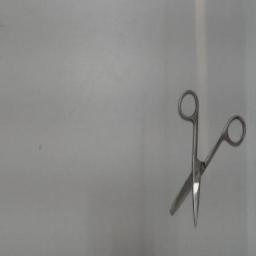Dressing Scissors: (164, 84, 250, 234)
